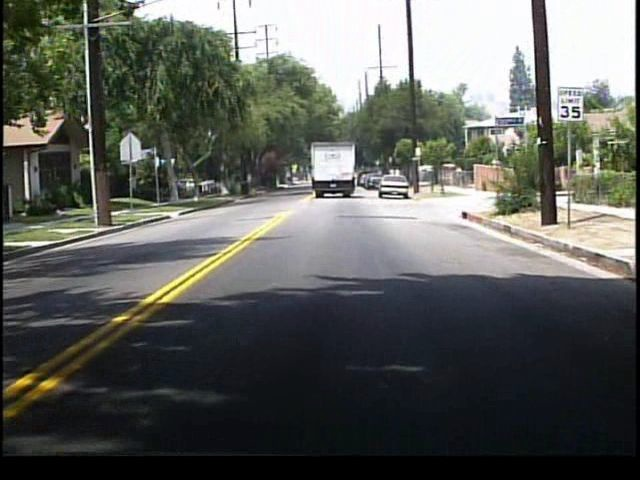person: (453, 164, 464, 190)
